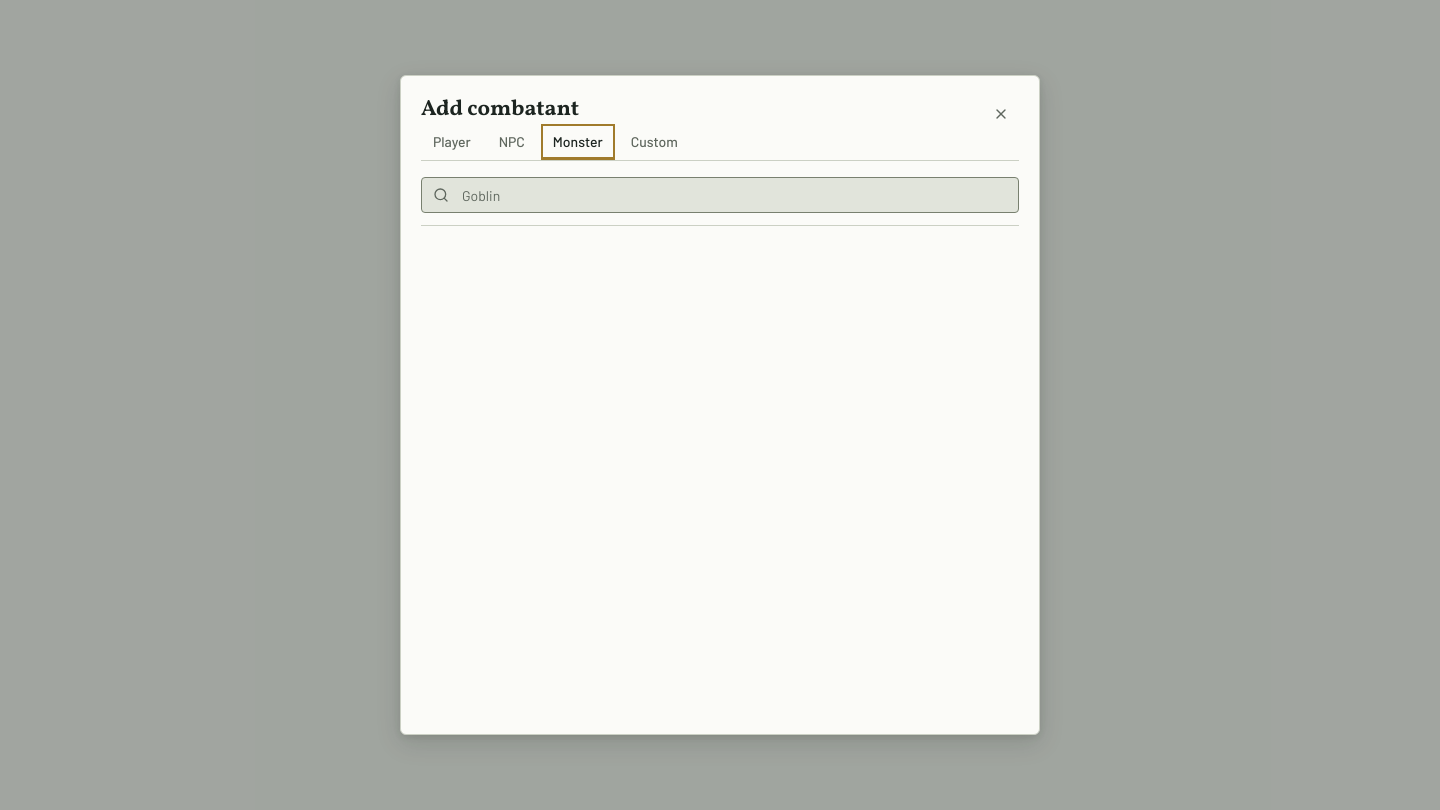
Scenario: AddCombatantDialog › searches saved NPCs by name, group, or tag and excludes custom monsters
Press the mouse on the tab "NPC" at (512, 142), box x1=487 y1=124 x2=537 y2=161
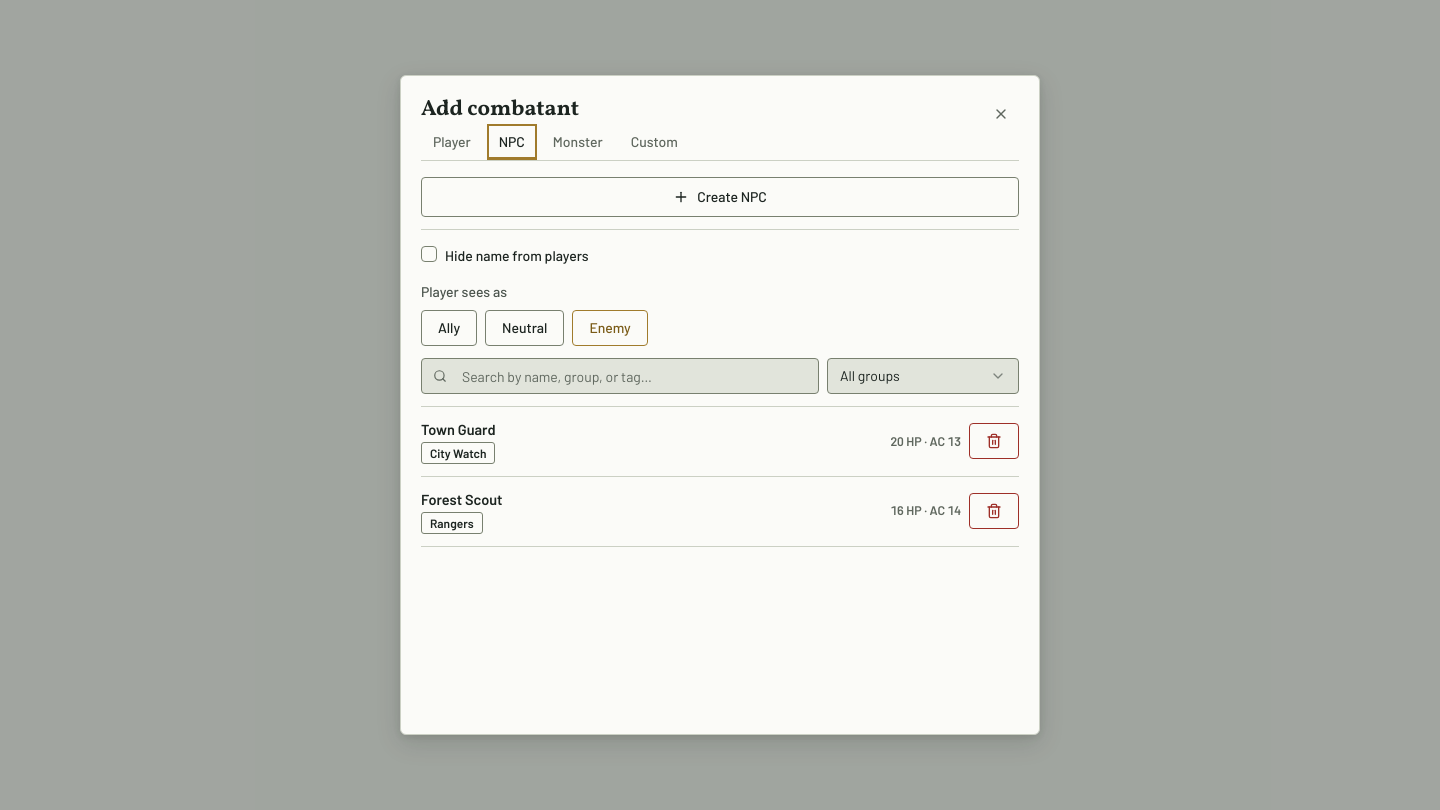
Check: the text "Town Guard" is shown, box x1=421 y1=420 x2=496 y2=438
Check: the text "Forest Scout" is shown, box x1=421 y1=490 x2=502 y2=508
Type "city watch" into the field named "search saved creatures by name, group, or tag" at (620, 376), box x1=421 y1=358 x2=819 y2=394
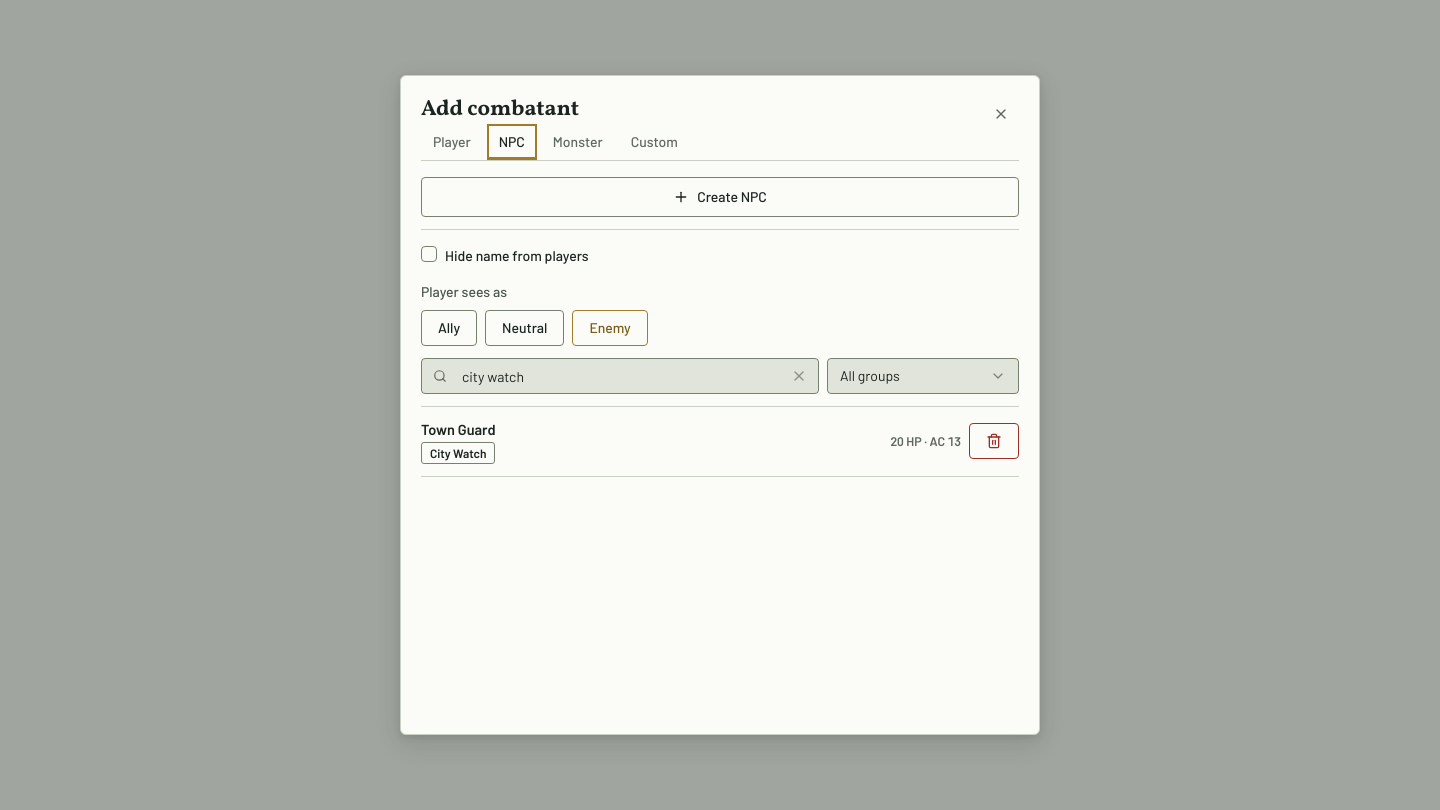
Check: the text "Town Guard" is shown, box x1=421 y1=420 x2=496 y2=438
Check: the button "Forest Scout" is gone
